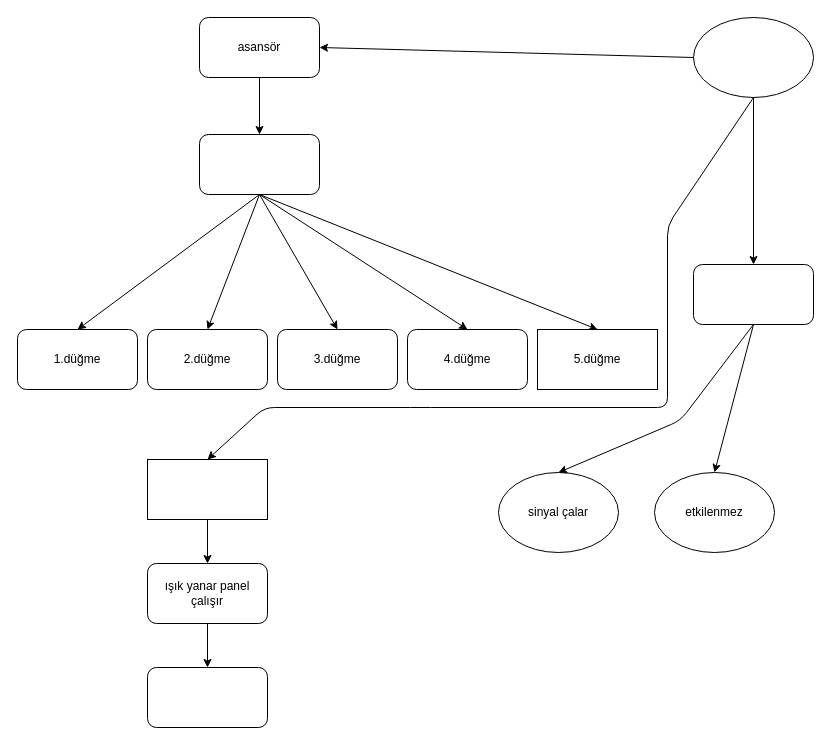
Image size: 831x745. Some labels were removed from this diagram. The centre of each missing label's shape, as x and y in pixels:
"asansör doğru kata gider" belongs at (x=207, y=697).
"doğru dügme" belongs at (x=207, y=489).
"personel" belongs at (x=753, y=57).
"yanlış düğme" belongs at (x=753, y=294).
"ışık" belongs at (x=259, y=164).
